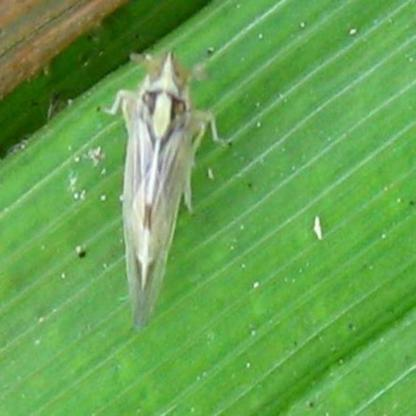brown-planthopper: (115, 50, 200, 328)
